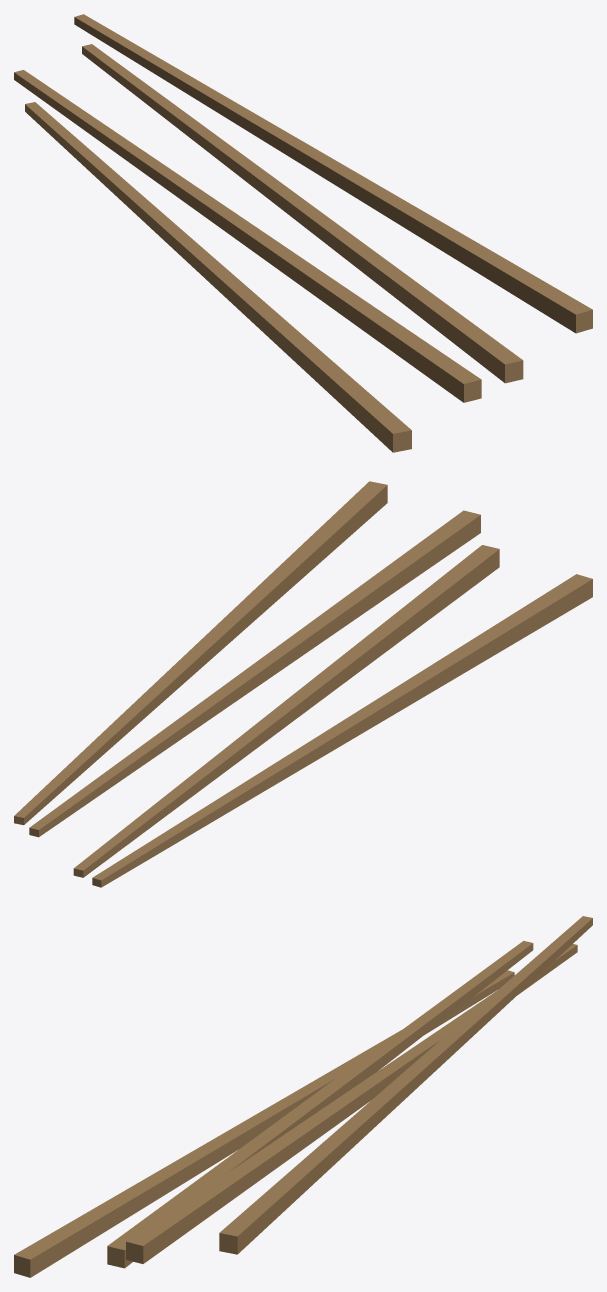
The model's file is ArrowShaftStack4.glb.
3 views of the same model, one above another, from view 1: azimuth 30°, elevation 25°; view 2: azimuth 150°, elevation 25°; view 3: azimuth 330°, elevation 25° (orthographic). The views are drawn at different scales.
Parts seen in each view (by area): view 1: ArrowShaftStack4; view 2: ArrowShaftStack4; view 3: ArrowShaftStack4.
Boxes of the visible parts, x1,y1,x2,y2 form: ArrowShaftStack4: (14, 14, 592, 452); ArrowShaftStack4: (14, 481, 592, 887); ArrowShaftStack4: (14, 916, 592, 1277).
Bounding box in the file's own units: 0.1578 × 0.0552 × 0.5769.
